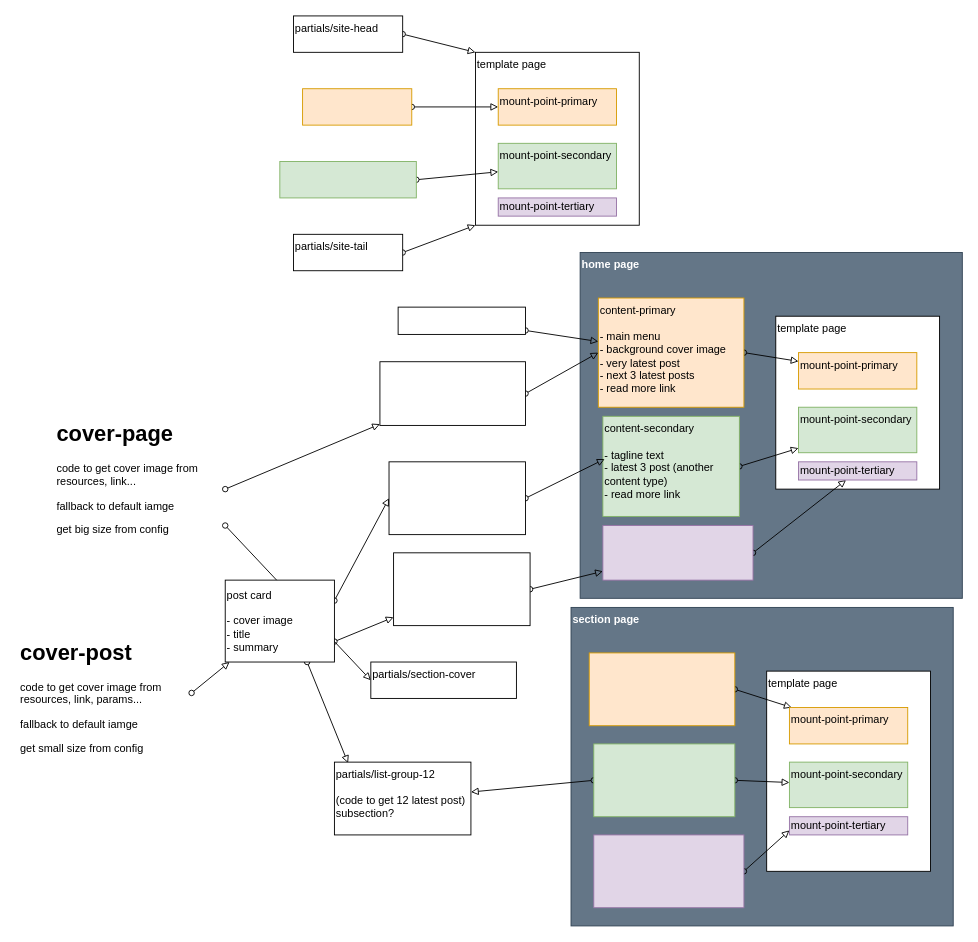
Some shapes in this 978 by 942 pixel diagram are drawn without their labels. Here are the shapes that lost their labels. From the top down, the centre of each, then its label:
At [357,106]: "content-primary".
At [347,179]: "content-secondary".
At [461,320]: "partials/menu-primary".
At [452,393]: "partials/home-cover (code to get 4 latest post)".
At [457,498]: "partials/list-group-3 (code to get 3 latest post)".
At [677,552]: "content-tertiary - list 6 post (another type)".
At [461,589]: "partials/list-group-6 (code to get 6 latest post)".
At [661,689]: "content-primary - section cover image - section description".
At [664,780]: "content-secondary - last 12 post (sub section?) - pagination".
At [668,871]: "content-tertiary - advertising - random list from other type".
